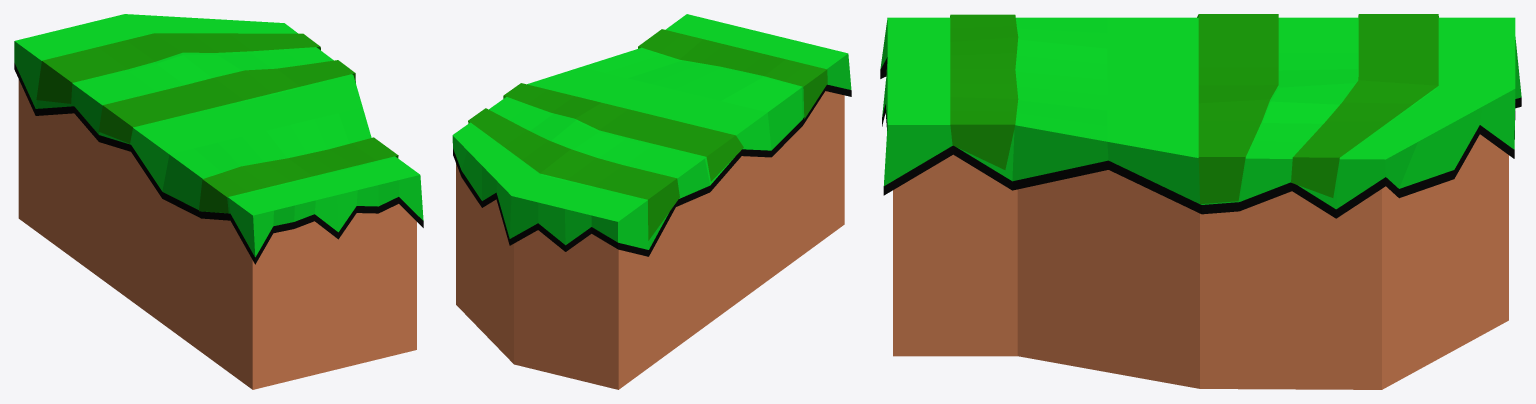
File: Platform07.fbx
3 views of the same model, side by side, from view 1: azimuth 30°, elevation 25°; view 2: azimuth 150°, elevation 25°; view 3: azimuth 270°, elevation 25° (orthographic). The views are drawn at different scales.
Visible parts, largest first — view 1: Cube.013; view 2: Cube.013; view 3: Cube.013.
Boxes of the visible parts, x1,y1,x2,y2 form: Cube.013: [14, 14, 423, 389]; Cube.013: [452, 14, 851, 389]; Cube.013: [880, 14, 1521, 389].
Bounding box in the file's own units: 590 × 442 × 1076.
